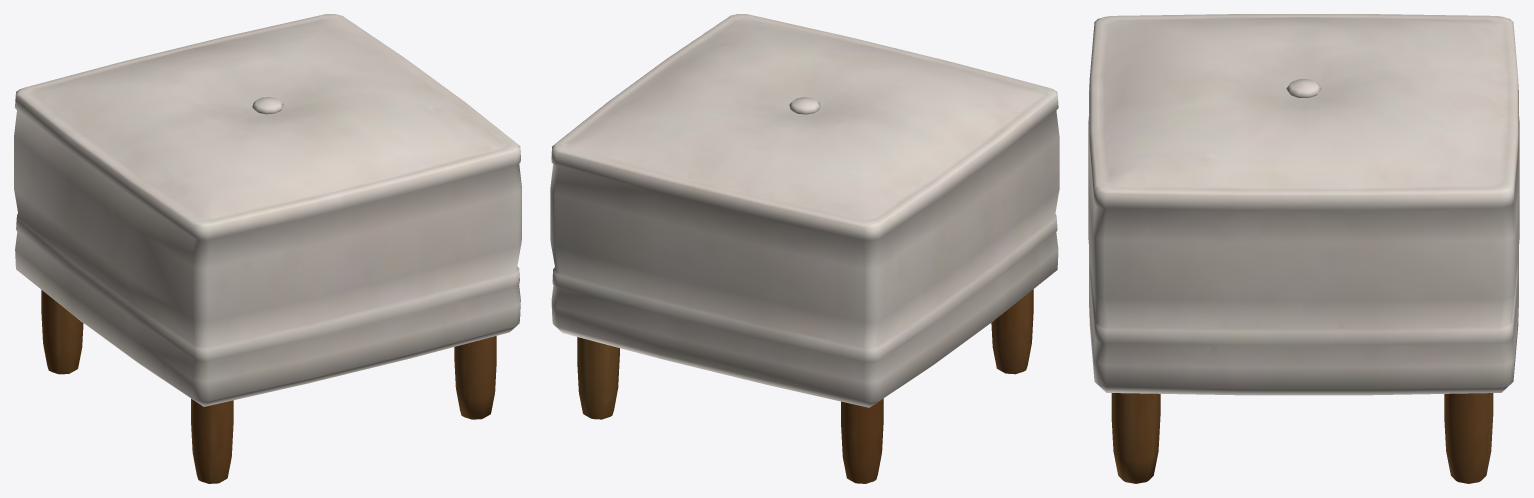
Rendered from sofastool.glb.
The picture shows the model from 3 angles, left to right: view 1: azimuth 30°, elevation 25°; view 2: azimuth 150°, elevation 25°; view 3: azimuth 270°, elevation 25°; orthographic projection. The views are drawn at different scales.
Visible parts, largest first — view 1: Button_low__mReBody; view 2: Button_low__mReBody; view 3: Button_low__mReBody.
Boxes of the visible parts, <box> form: Button_low__mReBody: <box>14,14,521,483</box>; Button_low__mReBody: <box>550,14,1059,483</box>; Button_low__mReBody: <box>1088,14,1519,483</box>.
Bounding box in the file's own units: 0.2937 × 0.2467 × 0.2937.
Materials: 1 (1 with a texture image).
